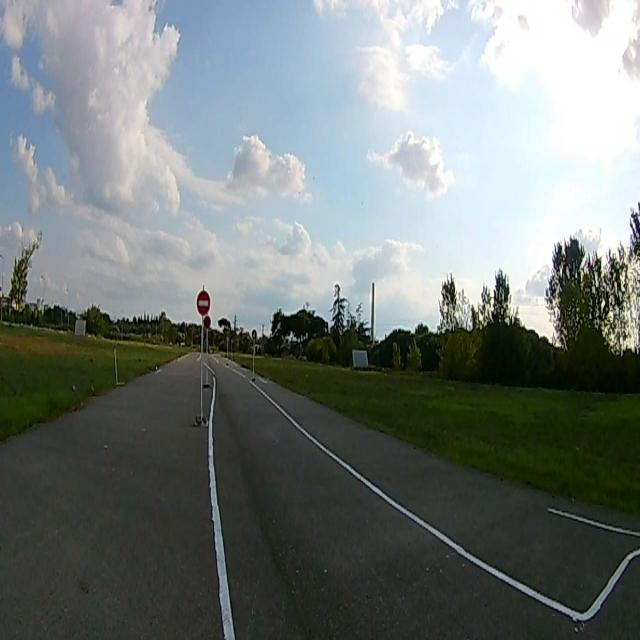girisyok: (197, 290, 210, 314)
